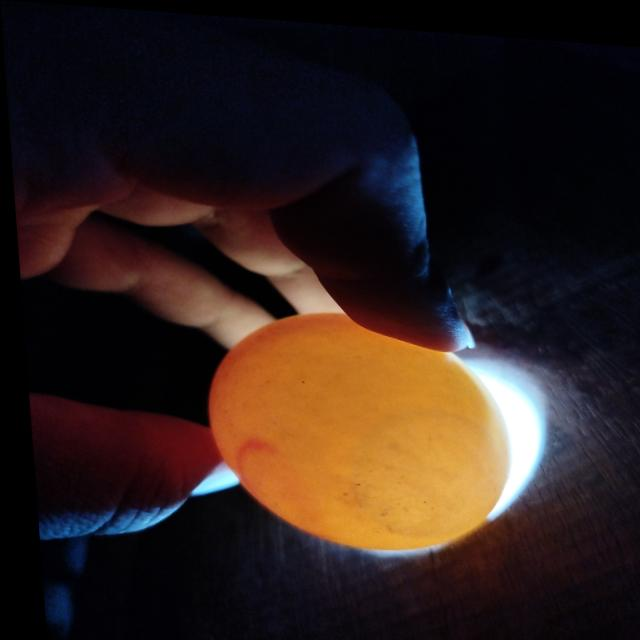Camara de Ar: (344, 407, 498, 536)
